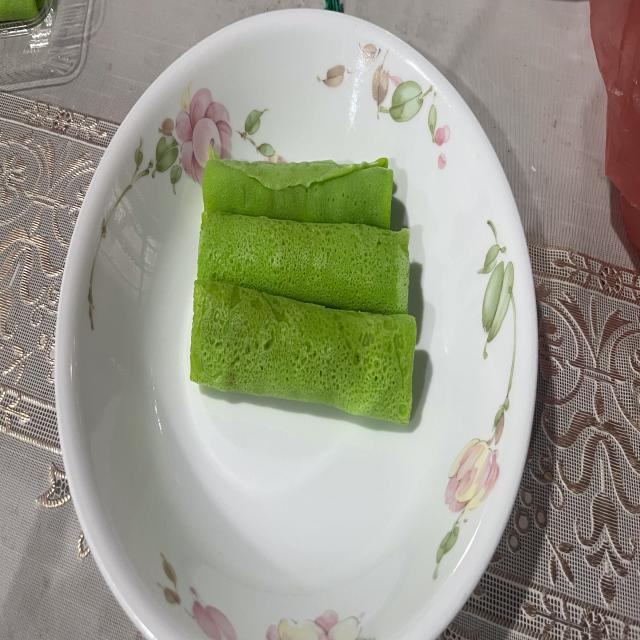Kuih-Ketayap: (190, 280, 416, 424), (198, 211, 410, 313), (202, 153, 392, 229)
